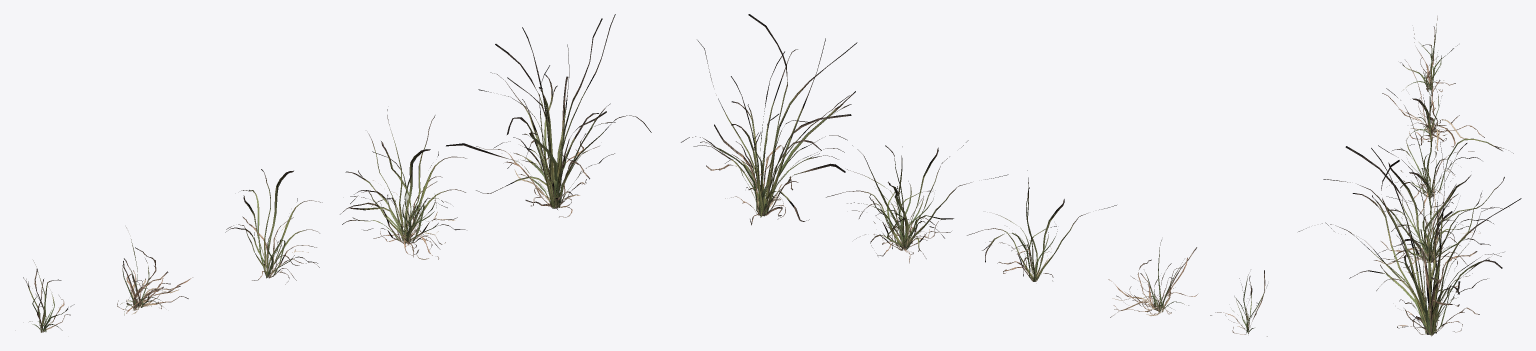
Rendered from grass_medium_02.glb.
3 renders of one model, left to right at view 1: azimuth 30°, elevation 25°; view 2: azimuth 150°, elevation 25°; view 3: azimuth 270°, elevation 25°, orthographic. The views are drawn at different scales.
Parts seen in each view (by area): view 1: grass_medium_02_a; view 2: grass_medium_02_a; view 3: grass_medium_02_a.
Boxes of the visible parts, x1=… form: grass_medium_02_a: x1=23, y1=14, x2=651, y2=332; grass_medium_02_a: x1=681, y1=14, x2=1267, y2=336; grass_medium_02_a: x1=1298, y1=16, x2=1521, y2=336.
Bounding box in the file's own units: 1.31 × 0.4056 × 0.4332.
Materials: 1 (1 with a texture image).
